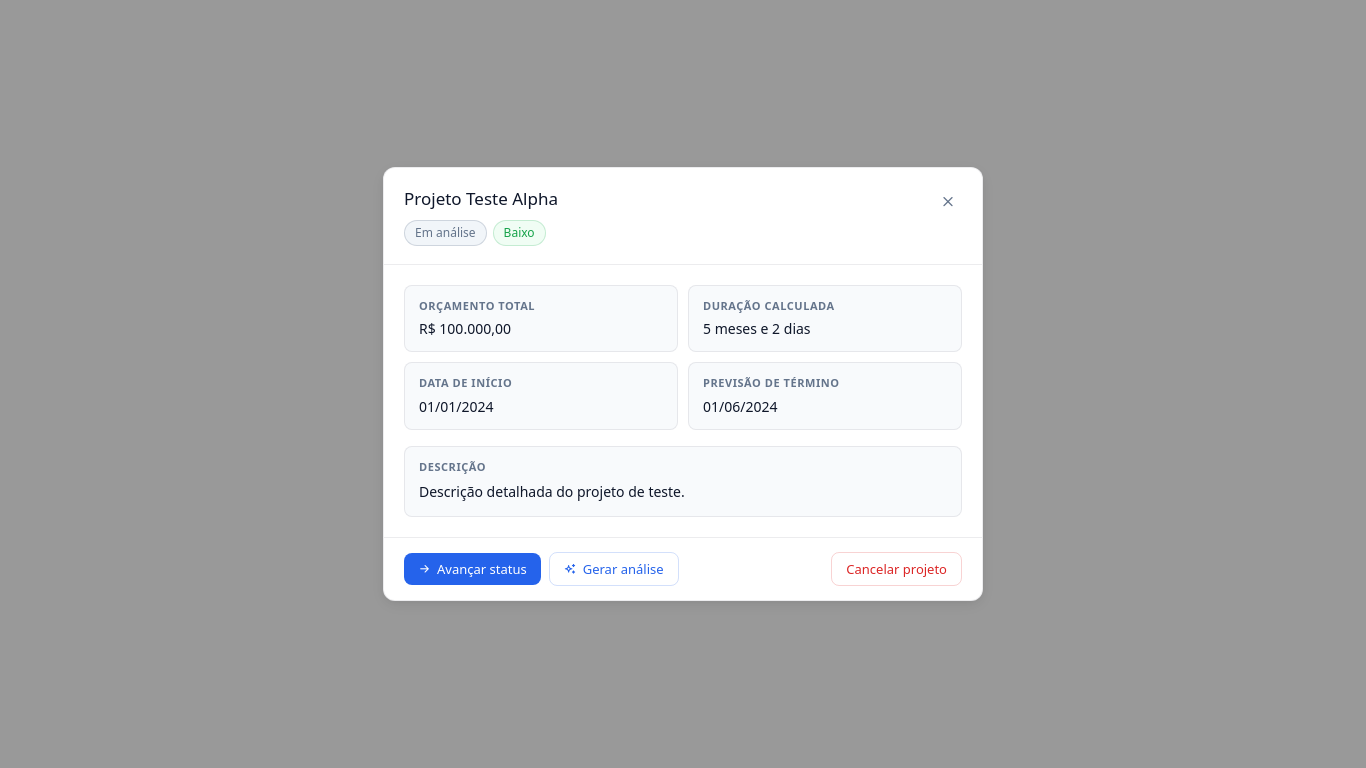
Scenario: ProjectDetailModal › exibe mensagem de erro quando a análise de IA falha
What coordinates should you click on to do the following:
click the button "Gerar análise"
I would click on:
 (614, 569)
Its box is [549,552,679,586].
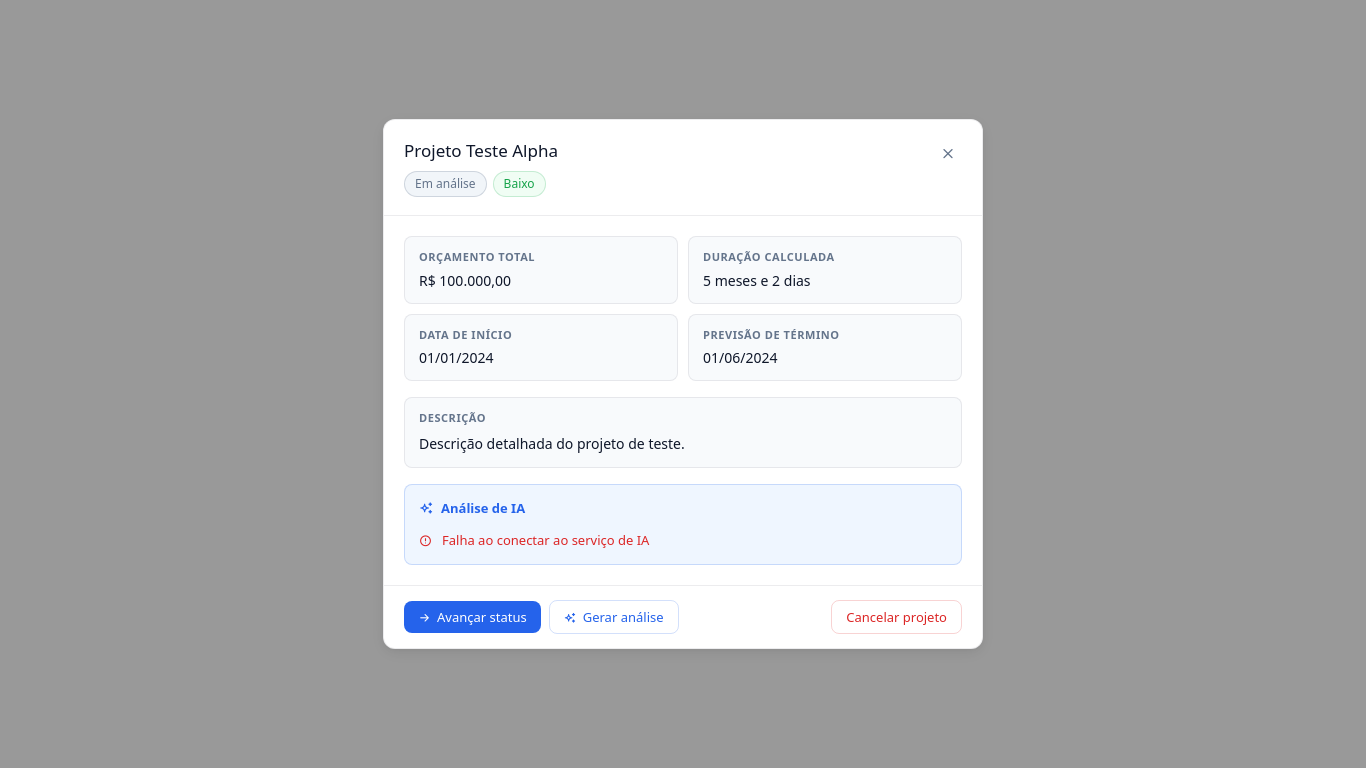
Check: the text "Falha ao conectar ao serviço de IA" is shown, box [442,531,649,550]
